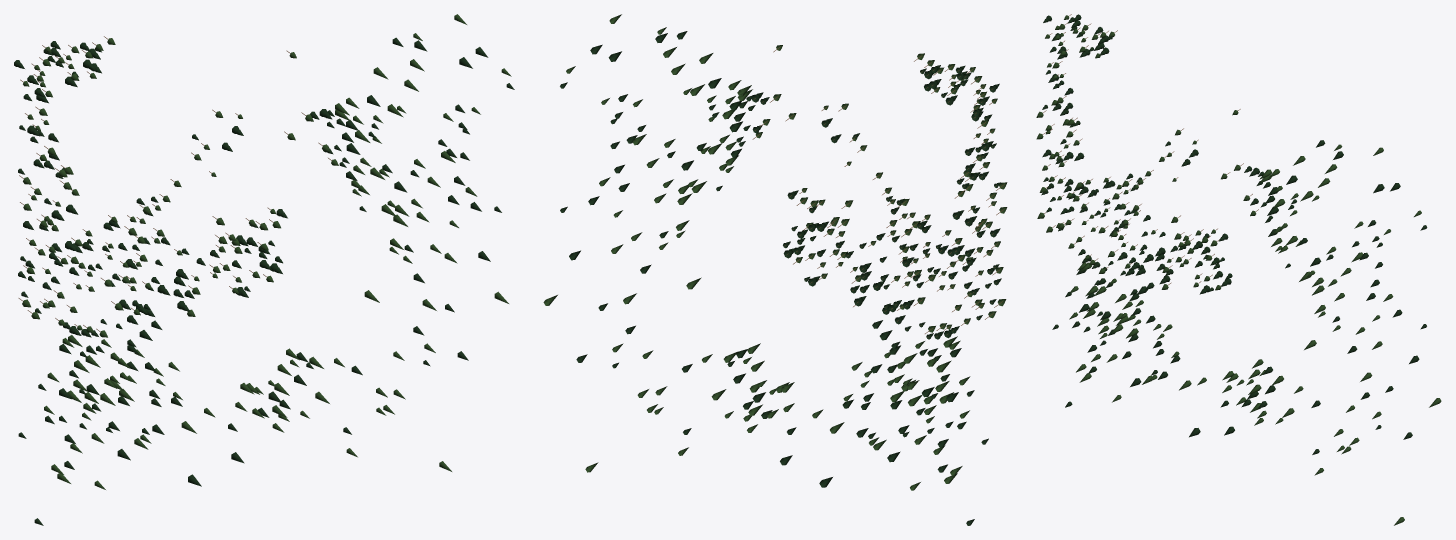
File: forest_12.obj
3 views of the same model, side by side, from view 1: azimuth 30°, elevation 25°; view 2: azimuth 150°, elevation 25°; view 3: azimuth 330°, elevation 25° (orthographic). The views are drawn at different scales.
Size of the model in its own units: 509 by 526 by 81.4.
